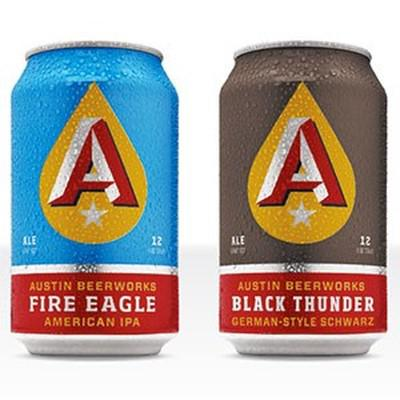beer: (14, 42, 187, 357)
